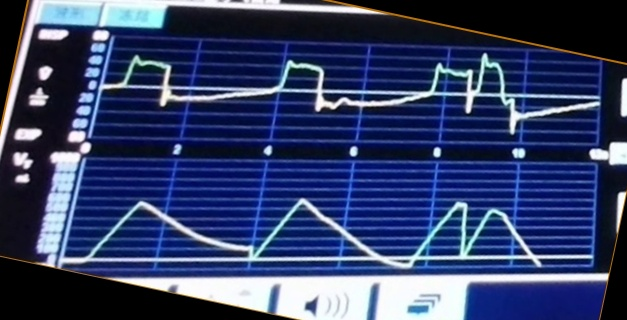Double_Triggering Flow: (112, 50, 557, 135)
Double_Triggering Volume: (79, 195, 566, 271)
